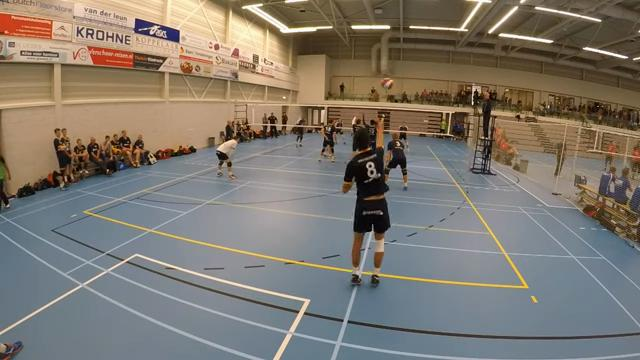Player: (385, 133, 407, 189), (216, 135, 238, 178), (318, 119, 336, 162), (350, 117, 365, 157), (367, 119, 376, 148), (295, 118, 304, 146), (399, 125, 408, 151), (336, 119, 345, 144)
Serve: (336, 113, 396, 290)
ball: (381, 77, 394, 90)
